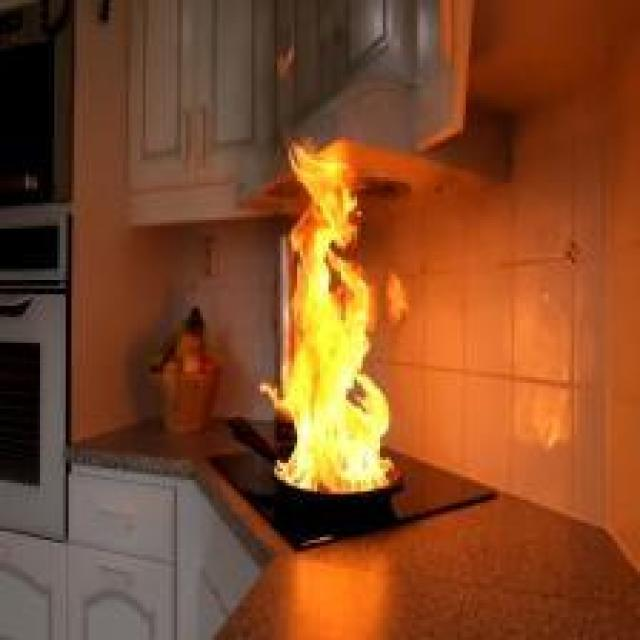Fire: (258, 132, 404, 494)
